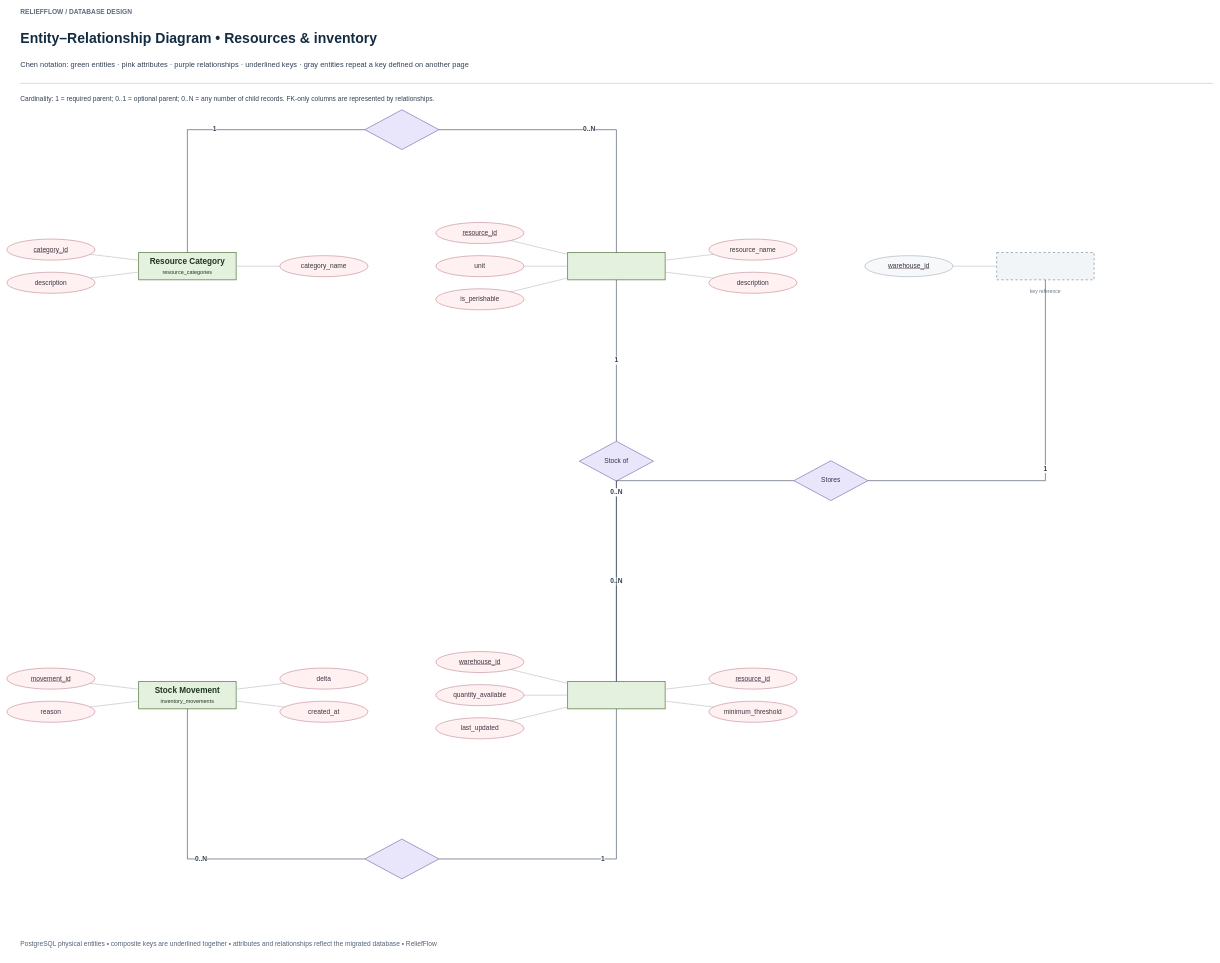
This 1220x963 diagram has some shape labels left out. The centre of each missing label's shape, as x and y in pixels:
Classifies: the point at 401,129
Inventory inventory: the point at 616,695
Records change composite reference: the point at 401,859
Resource resources: the point at 616,266
Warehouse warehouses: the point at 1045,266
